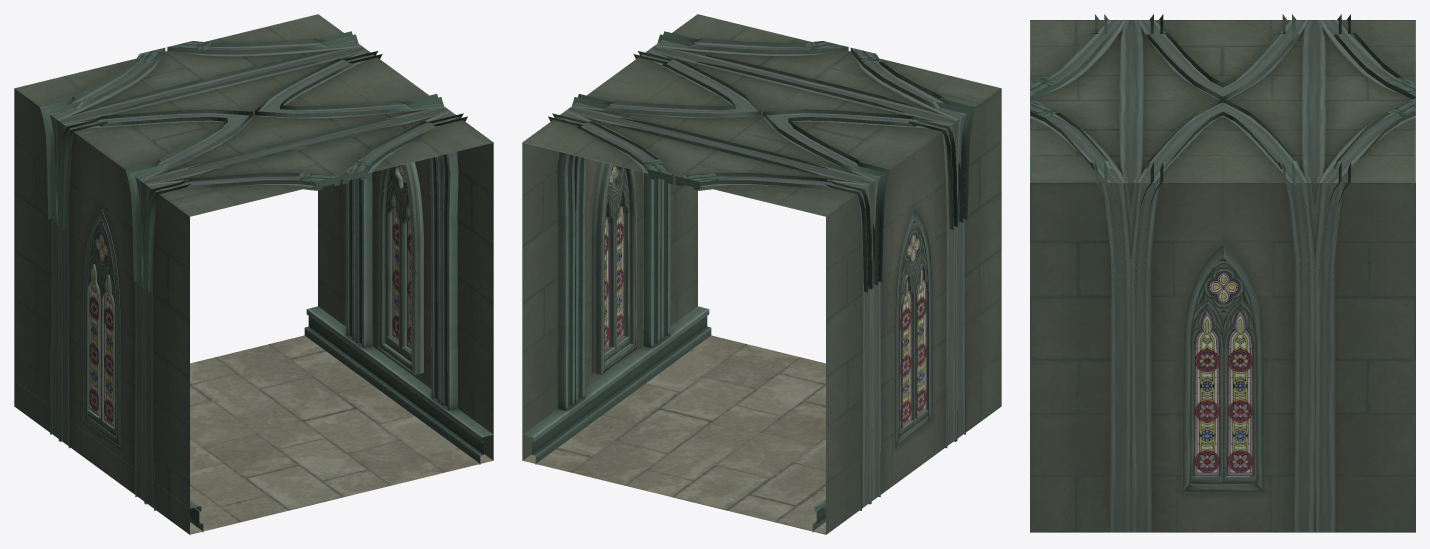
File: field_allnormal.fbx
3 views of the same model, side by side, from view 1: azimuth 30°, elevation 25°; view 2: azimuth 150°, elevation 25°; view 3: azimuth 270°, elevation 25° (orthographic). The views are drawn at different scales.
Visible parts, largest first — view 1: Wall, pPlane2, pCube2, pPlane3, pasted__Wall; view 2: Wall, pPlane2, pCube2, pPlane3, pasted__Wall; view 3: pasted__Wall, pPlane2, pCube2.
Boxes of the visible parts, x1,y1,x2,y2 form: Wall: (14,88,189,534); pPlane2: (14,14,493,216); pCube2: (14,31,493,532); pPlane3: (14,335,493,534); pasted__Wall: (318,16,493,460); Wall: (826,88,1001,534); pPlane2: (522,14,1001,216); pCube2: (522,31,1001,532); pPlane3: (522,335,1001,534); pasted__Wall: (522,16,697,460); pasted__Wall: (1030,183,1415,532); pPlane2: (1030,20,1415,182); pCube2: (1030,14,1415,297).
Bounding box in the file's own units: 1.03 × 1.02 × 1.
4 materials, 4 textured.
